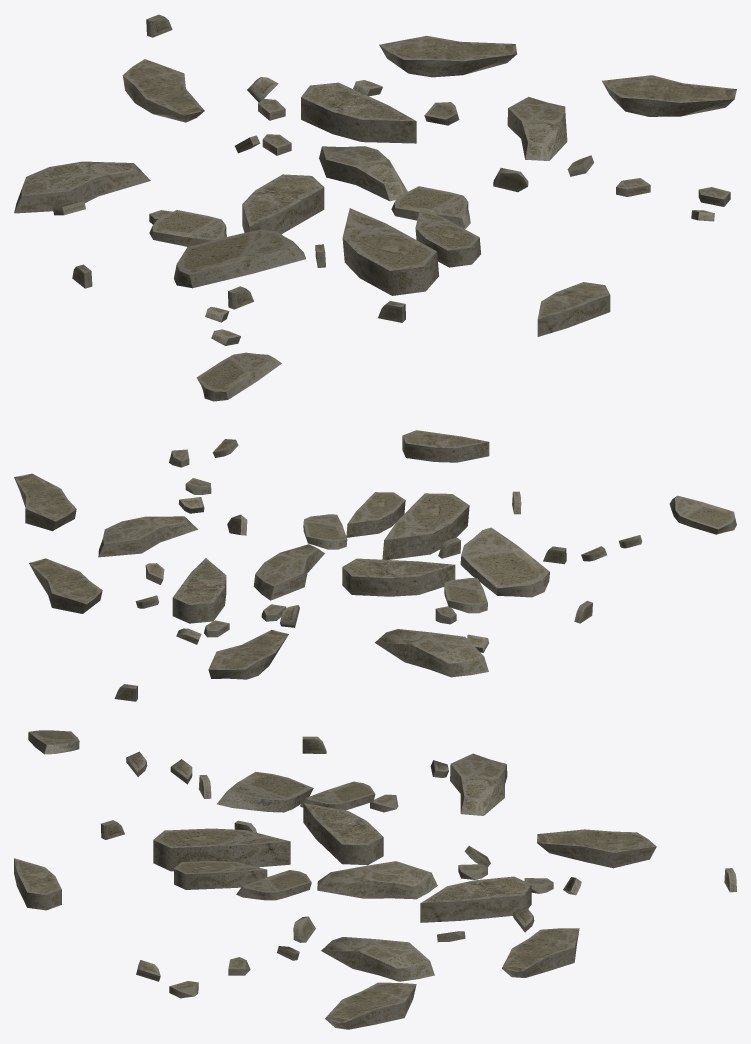
File: SM_building_debris_02a.FBX
3 renders of one model, top to bottom at view 1: azimuth 30°, elevation 25°; view 2: azimuth 150°, elevation 25°; view 3: azimuth 270°, elevation 25°, orthographic. The views are drawn at different scales.
Visible parts, largest first — view 1: SM_building_debris_02a; view 2: SM_building_debris_02a; view 3: SM_building_debris_02a.
Boxes of the visible parts, <box> form: SM_building_debris_02a: <box>14,14,736,401</box>; SM_building_debris_02a: <box>14,430,736,701</box>; SM_building_debris_02a: <box>14,730,736,1029</box>.
Size of the model in its own units: 544 by 31.12 by 554.
